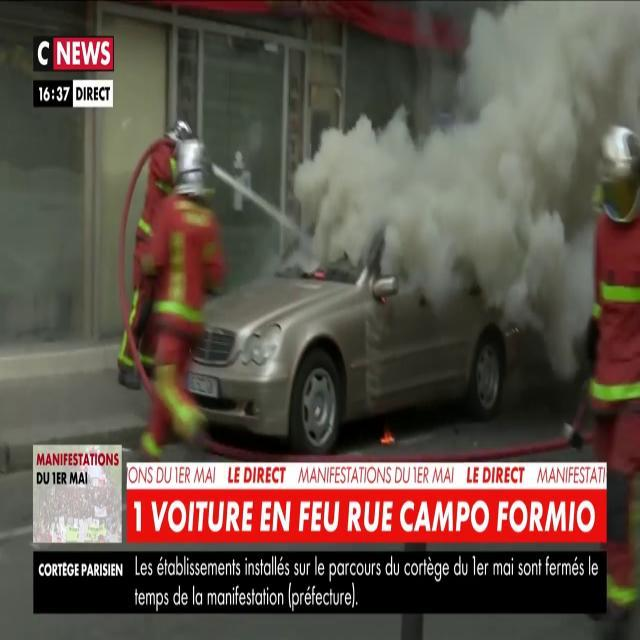Smoke: (305, 0, 633, 391)
